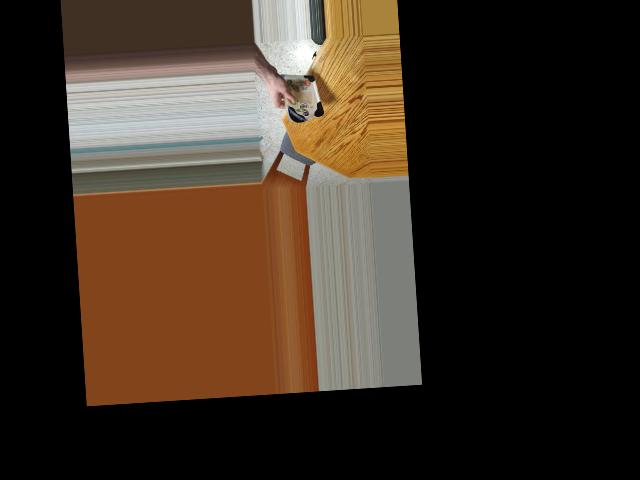cheese: (281, 66, 320, 126)
